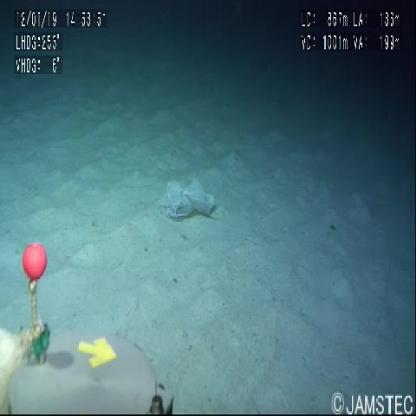Rác: (158, 181, 216, 224)
